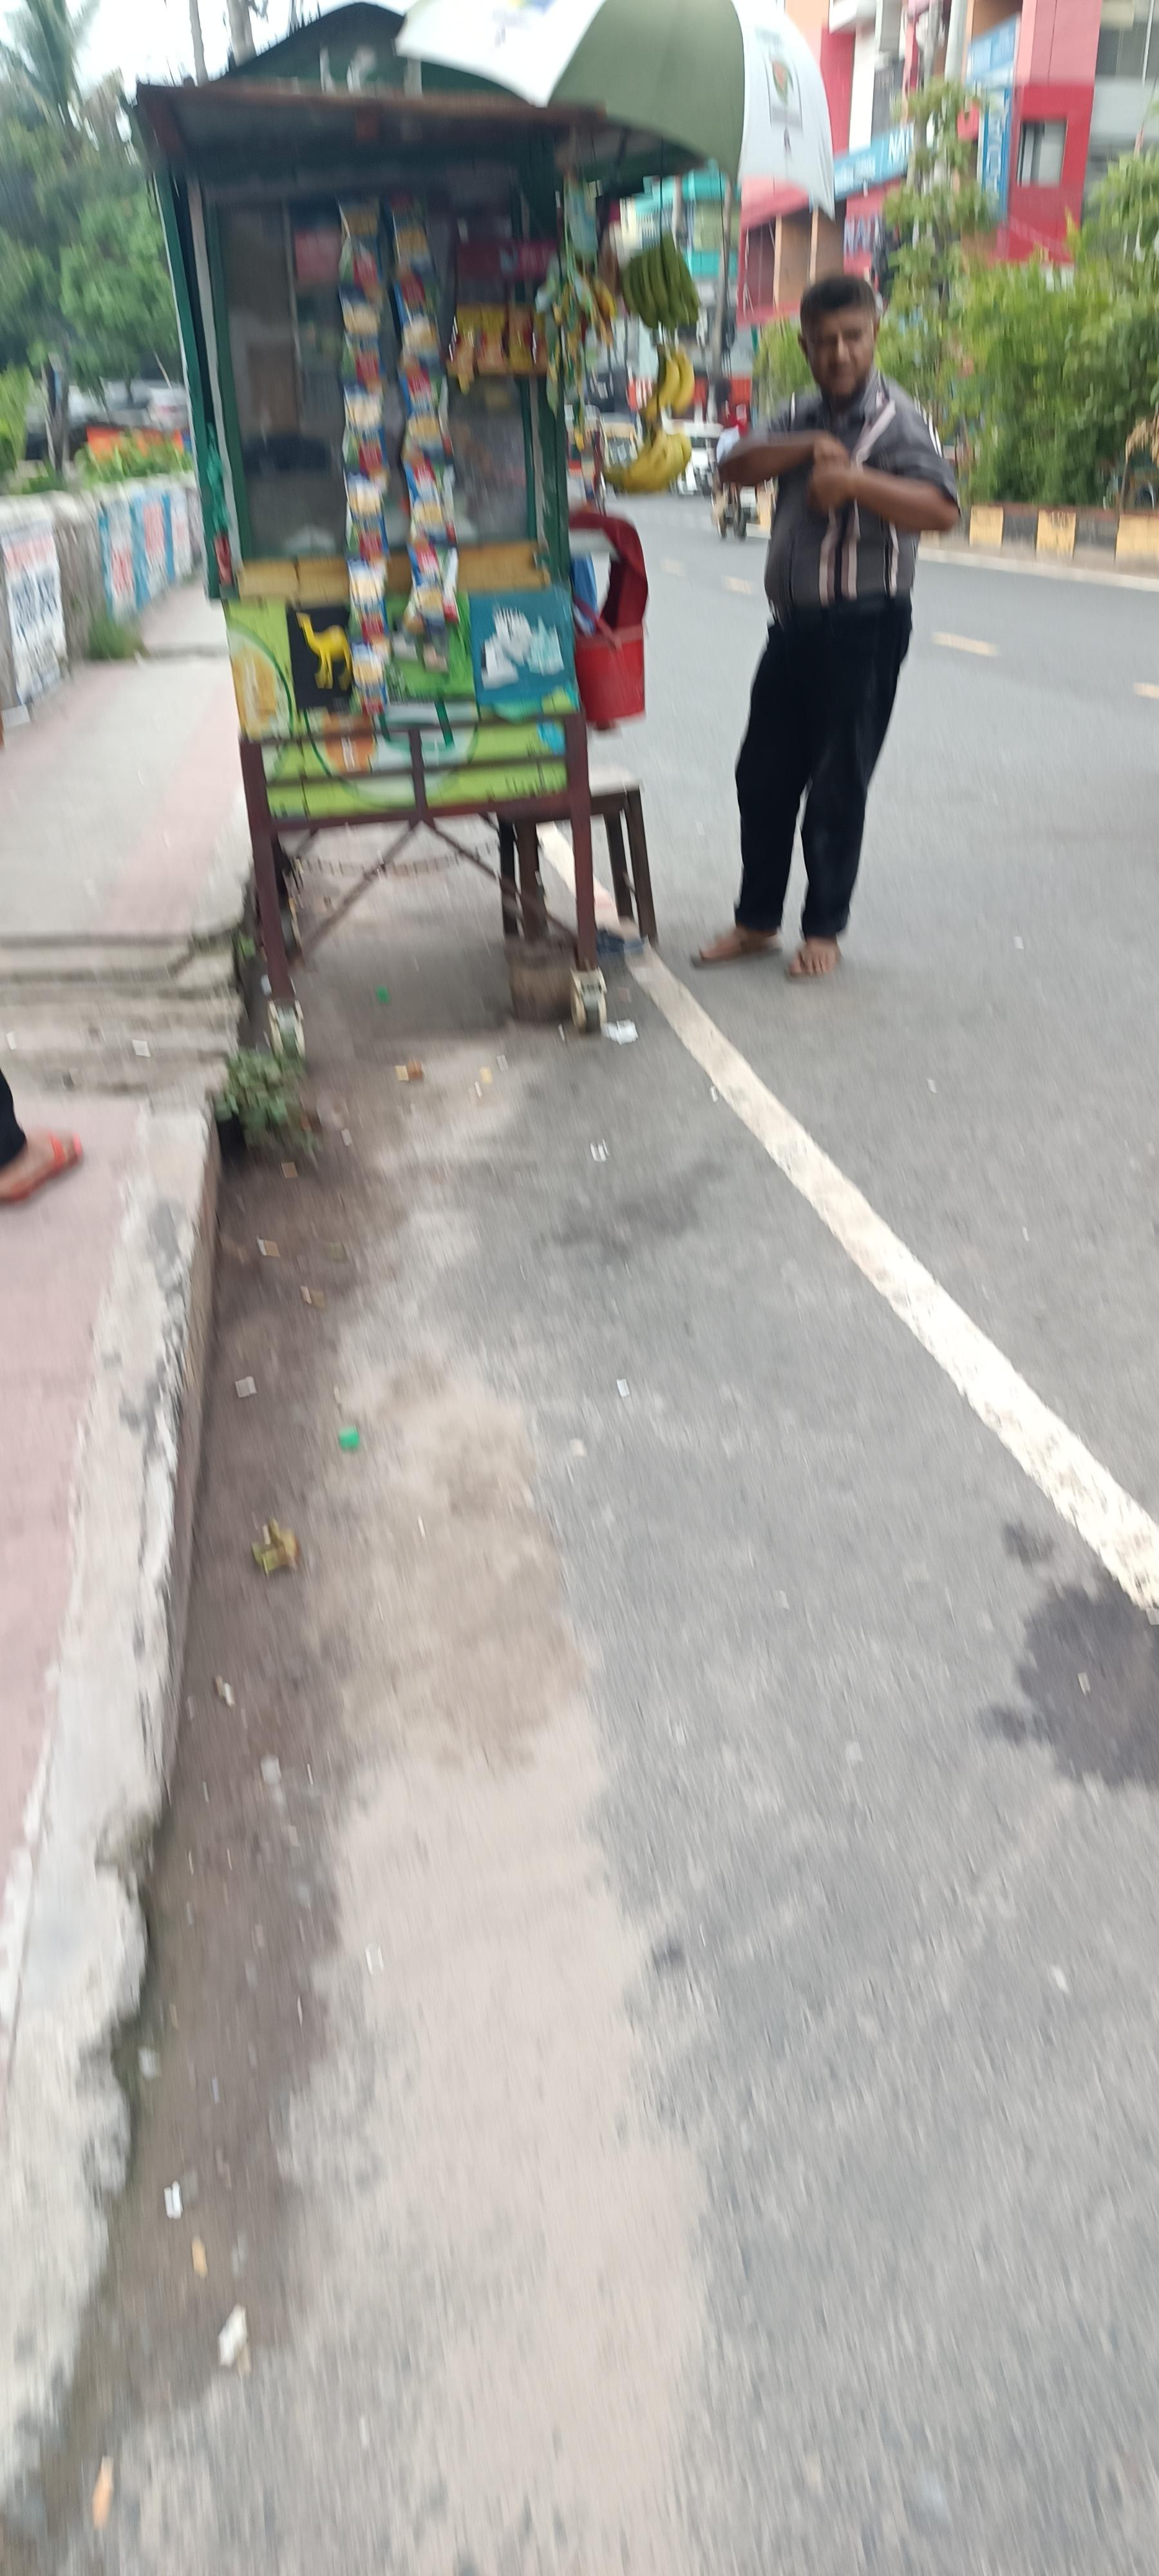Garbage: (125, 16, 706, 1069)
Garbage-bin: (689, 271, 964, 979)
